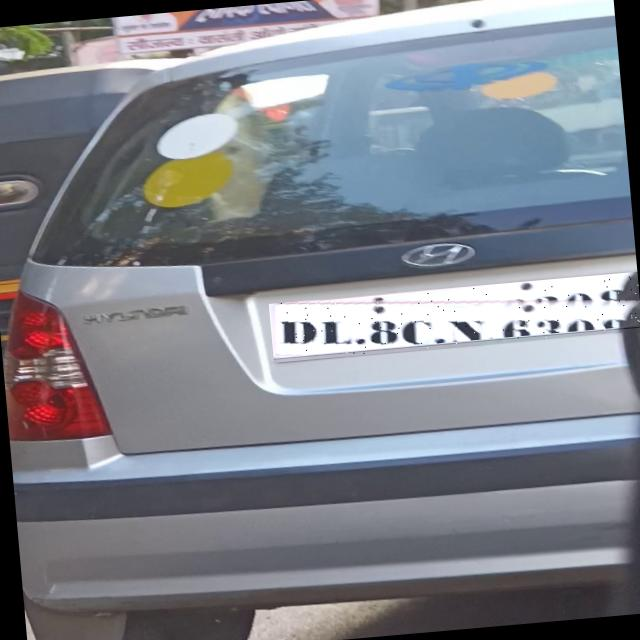Plate: (269, 272, 640, 362)
